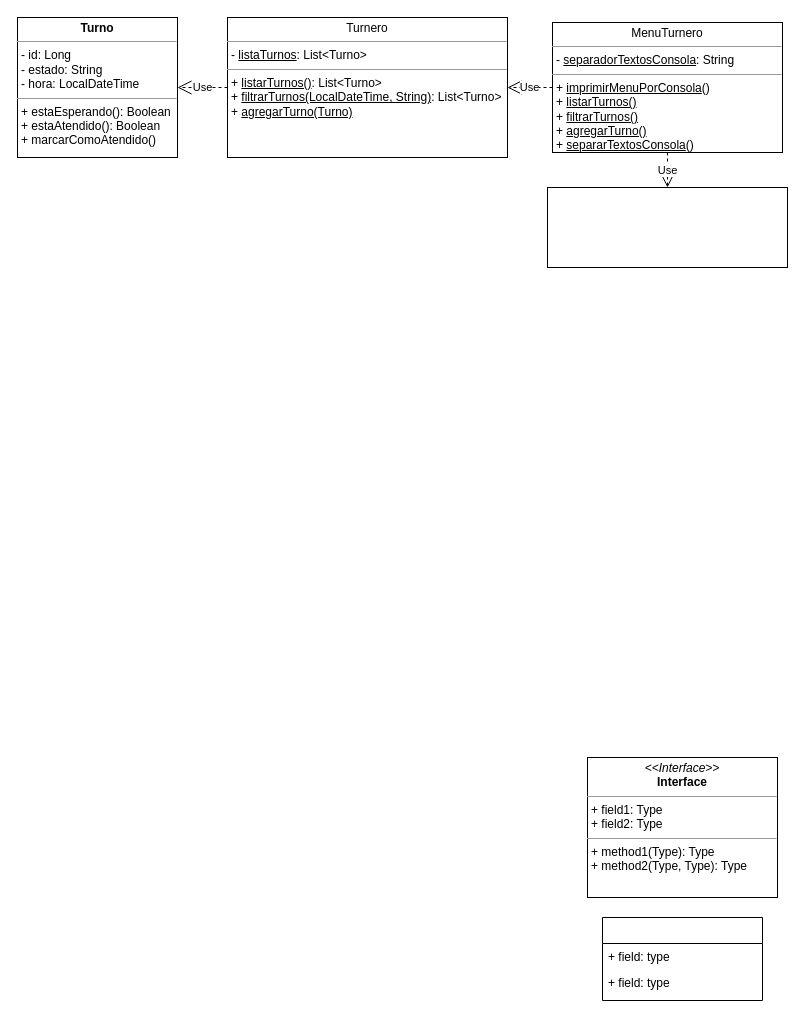
The diagram is 805 pixels wide and 1018 high, and some of its shapes have lost their labels. The box of each missing label's shape, as (x1, y1, x2, y2) in pixels:
Classname: (602, 916, 762, 1000)
Validador + validarFecha (String): String: (546, 186, 788, 268)
